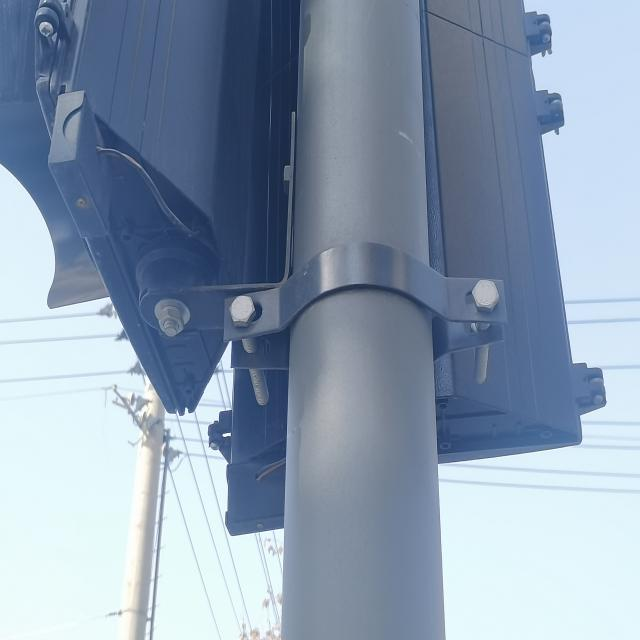bolt head: (471, 278, 500, 314), (228, 294, 256, 328)
bolt nut: (158, 308, 185, 338)
